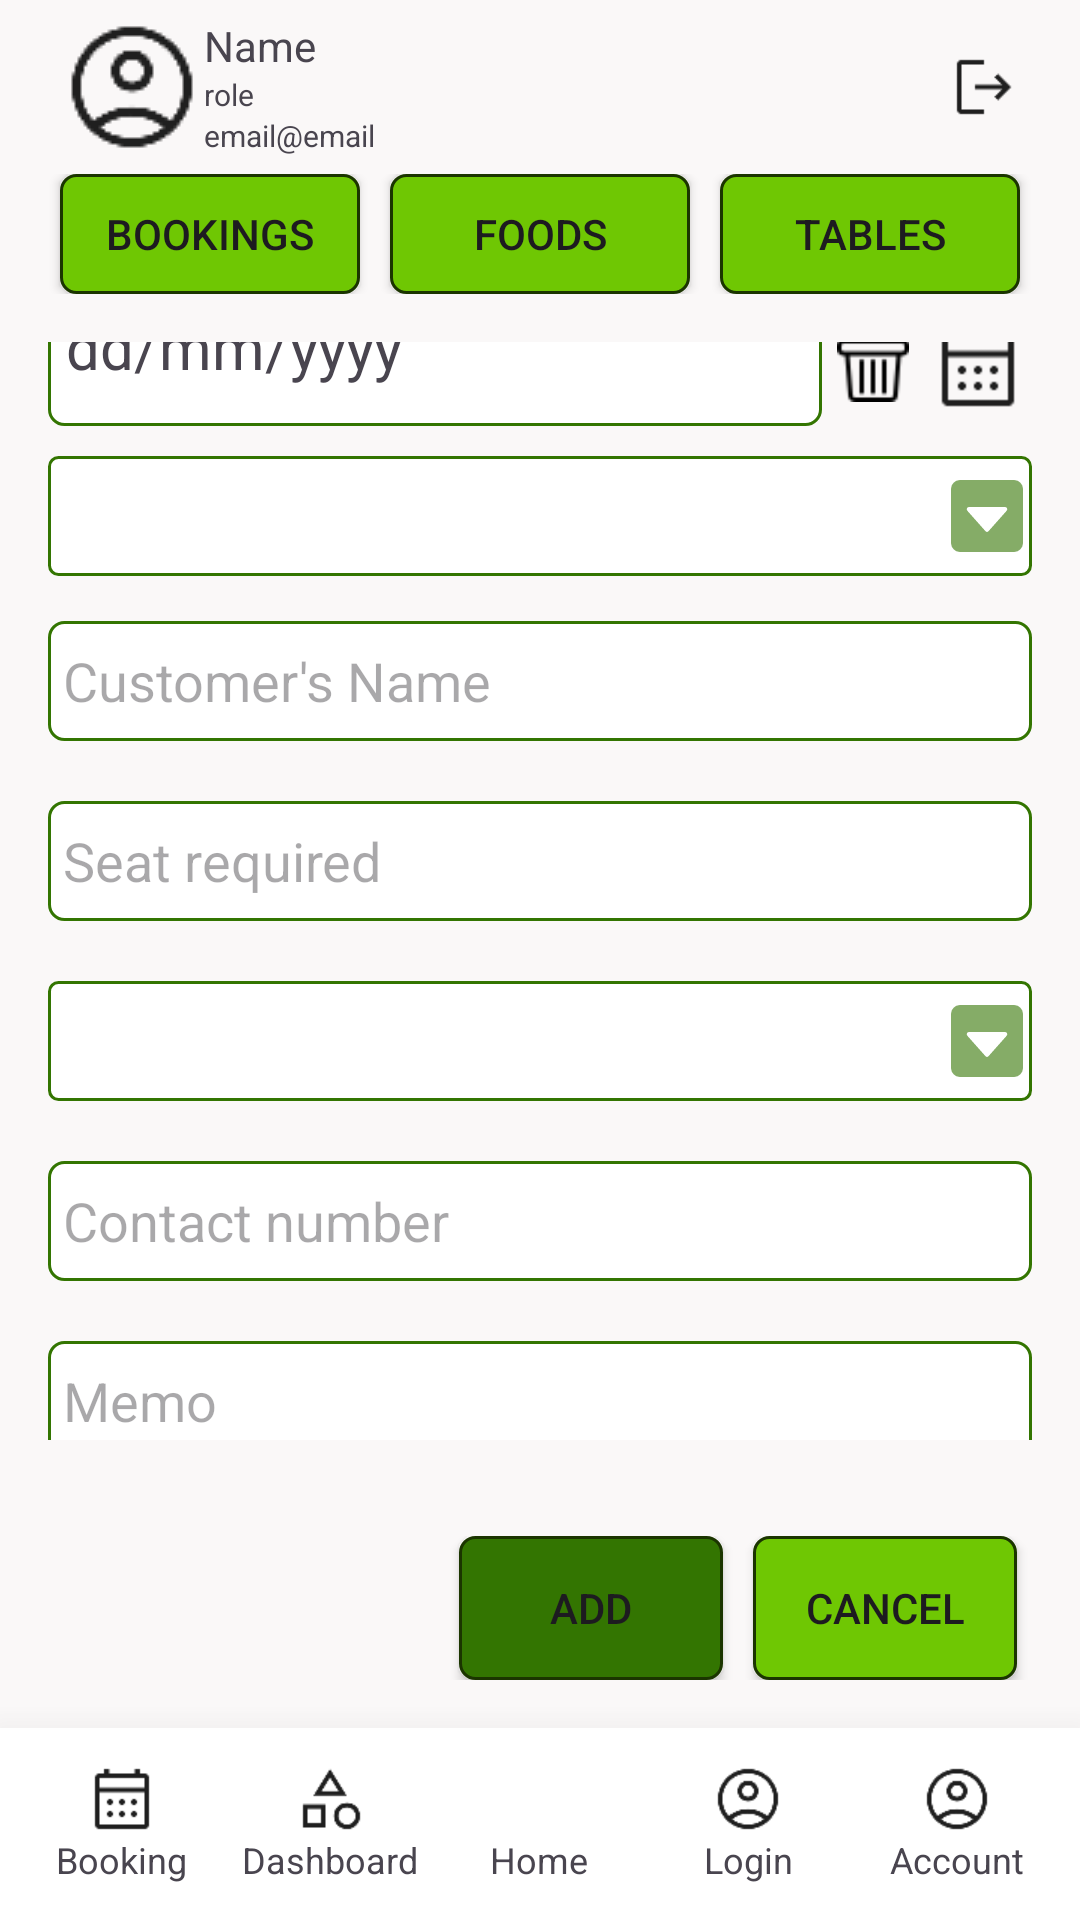

Named icons in this screenshot (1080 × 1920) and their bounding boxes, (x1, y1, x2, y2):
calendar: (941, 342, 1015, 407), (94, 1768, 150, 1830)
category: (302, 1769, 361, 1830)
delete: (837, 342, 909, 402)
